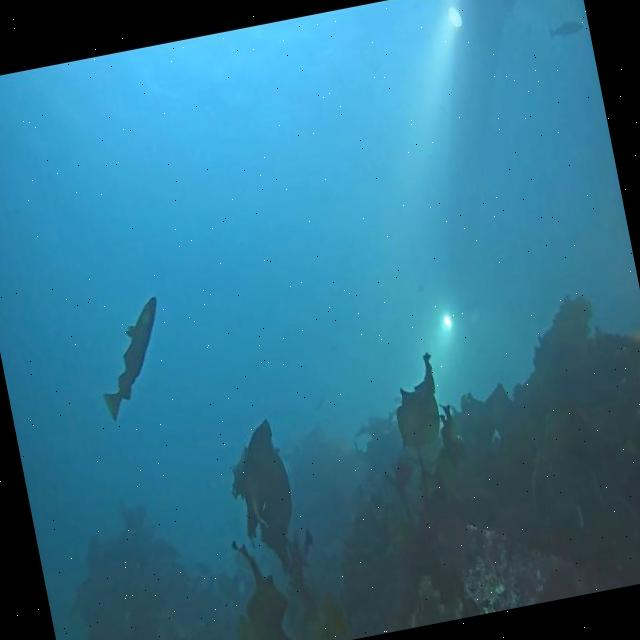fish: (88, 294, 178, 423), (546, 19, 588, 41)
